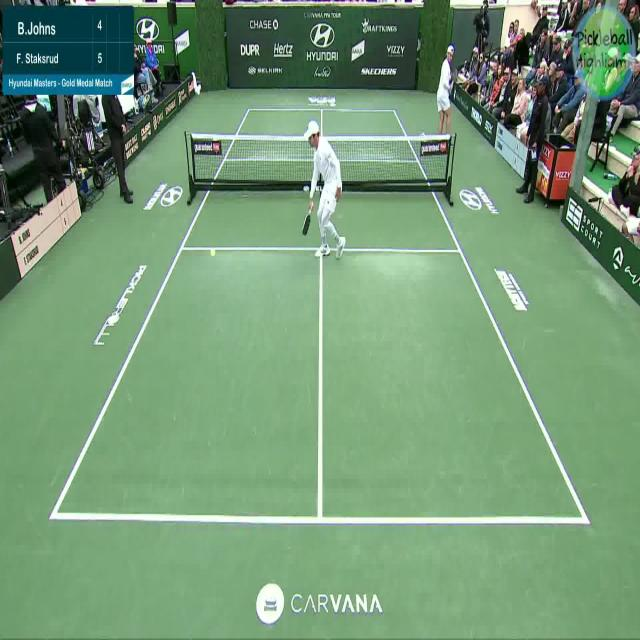ball: (208, 240, 220, 261)
